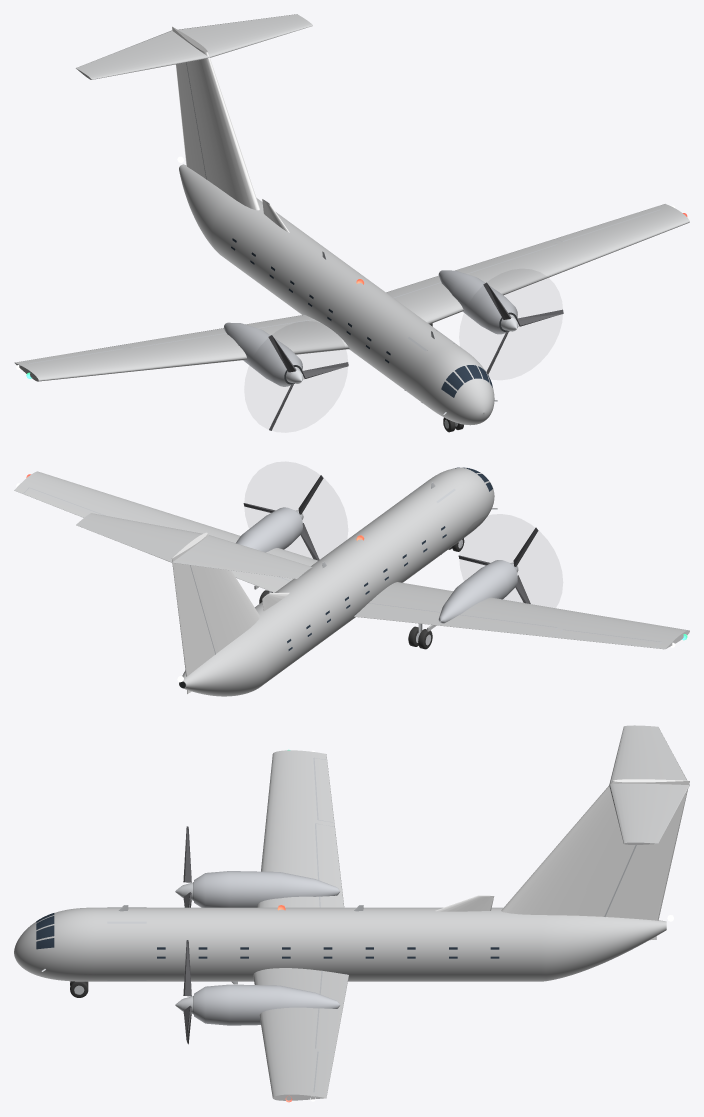
3 views of the same model, one above another, from view 1: azimuth 30°, elevation 25°; view 2: azimuth 150°, elevation 25°; view 3: azimuth 270°, elevation 25° (orthographic). The views are drawn at different scales.
Parts seen in each view (by area): view 1: airframe, prop (×2); view 2: airframe, prop (×2), gear; view 3: airframe.
Boxes of the visible parts, bbox=[...] form: airframe: bbox=[14, 14, 689, 425]; prop (×2): bbox=[268, 282, 563, 430]; airframe: bbox=[14, 467, 689, 696]; prop (×2): bbox=[243, 475, 538, 603]; gear: bbox=[254, 538, 464, 649]; airframe: bbox=[14, 725, 689, 1102].
Size of the model in its own units: 16.82 by 5.09 by 13.78.
